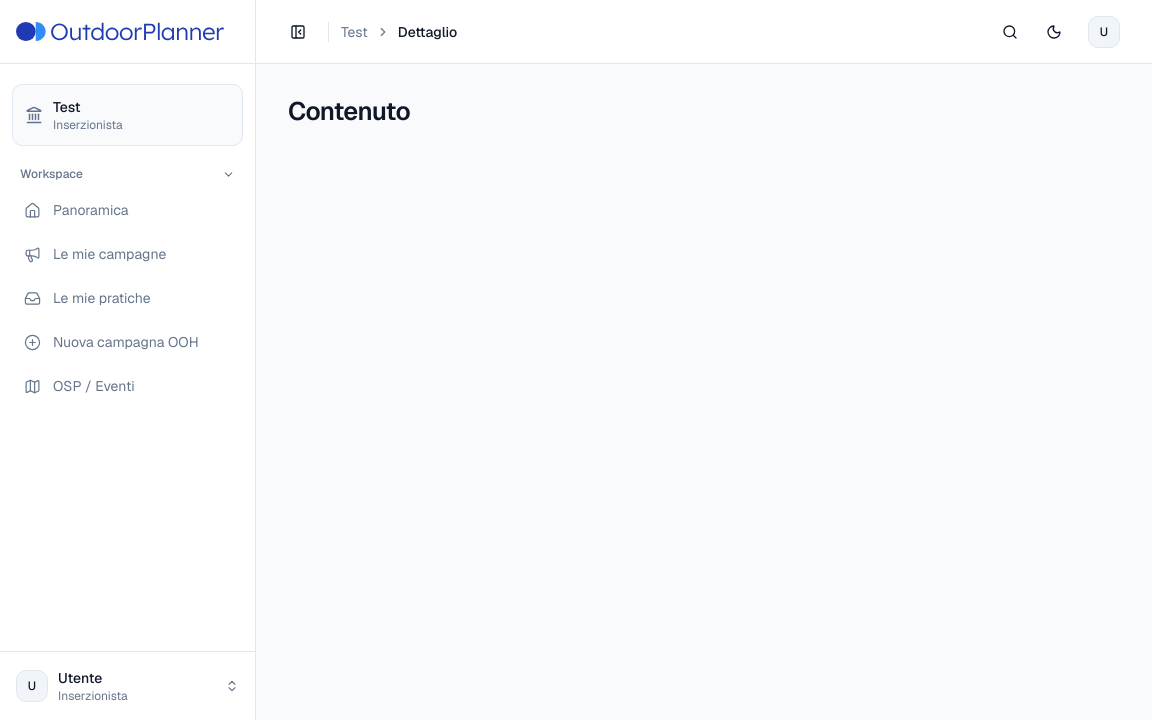
Scenario: user can reach practices and collapsing preserves every destination
Click the button with test id "sidebar-collapse" at coordinates (298, 32), box [280,14,316,50]
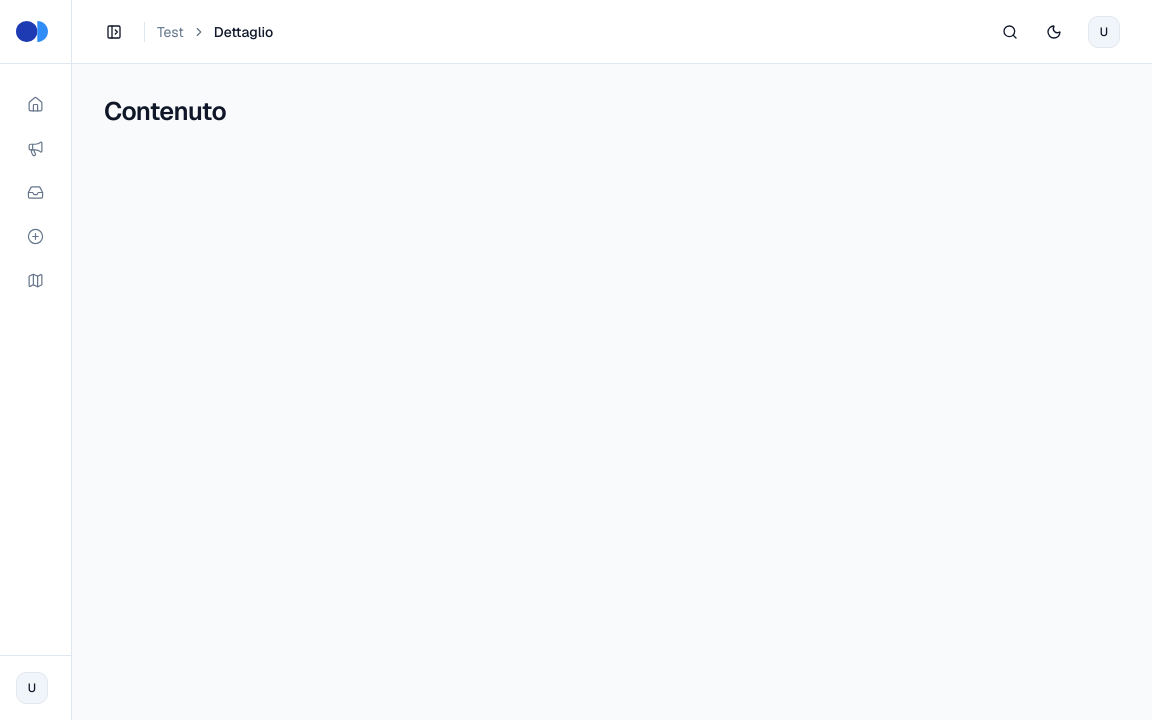
Check: the link with test id "link-pratiche-user" has attribute aria-label="Le mie pratiche", box [27,184,44,200]
